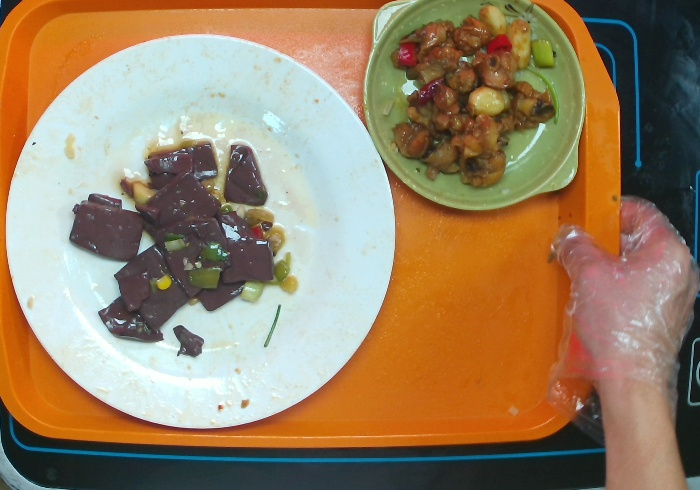NLDX-Da_Yuan_Pan: (1, 28, 399, 432)
NLDX-Lv_Hua_Shuang_Er_Die: (355, 1, 591, 213)
